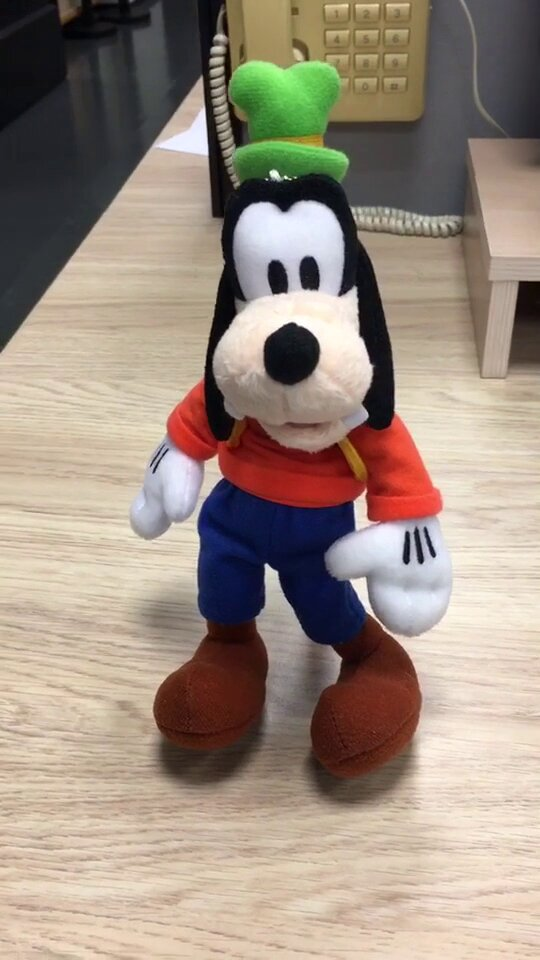goofy: (124, 56, 458, 775)
